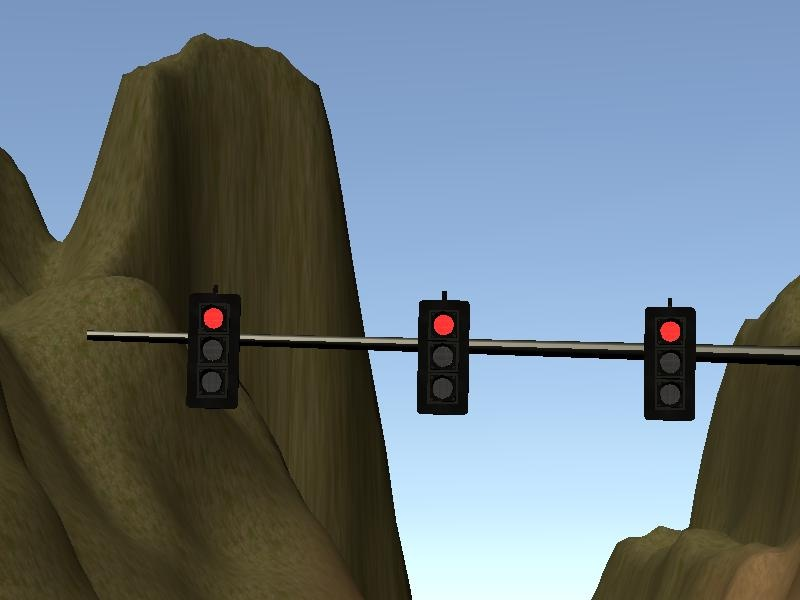red: (178, 284, 245, 414), (411, 288, 474, 421), (637, 297, 702, 425)
